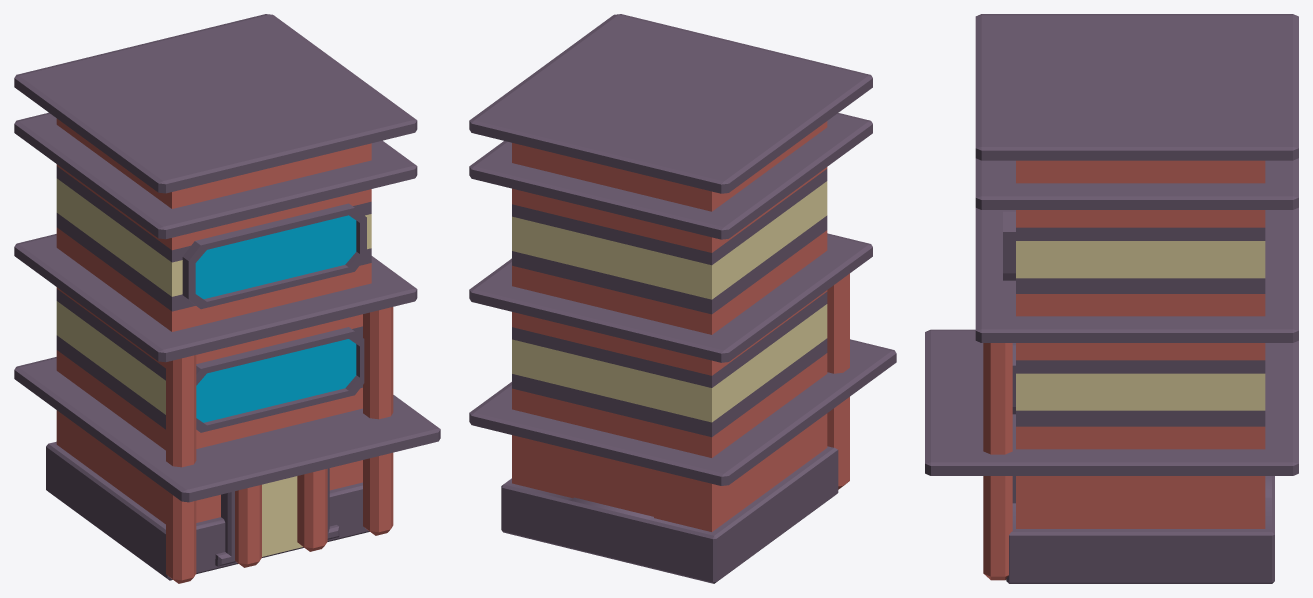
The model's file is housr1.fbx.
The picture shows the model from 3 angles, left to right: view 1: azimuth 30°, elevation 25°; view 2: azimuth 150°, elevation 25°; view 3: azimuth 270°, elevation 25°; orthographic projection. The views are drawn at different scales.
Visible parts, largest first — view 1: pCube29; view 2: pCube29; view 3: pCube29.
Part boxes in pixels (<box>): pCube29: <box>14,14,440,583</box>; pCube29: <box>469,14,896,583</box>; pCube29: <box>925,14,1298,583</box>.
Size of the model in its own units: 0.189 by 0.2888 by 0.2186.
